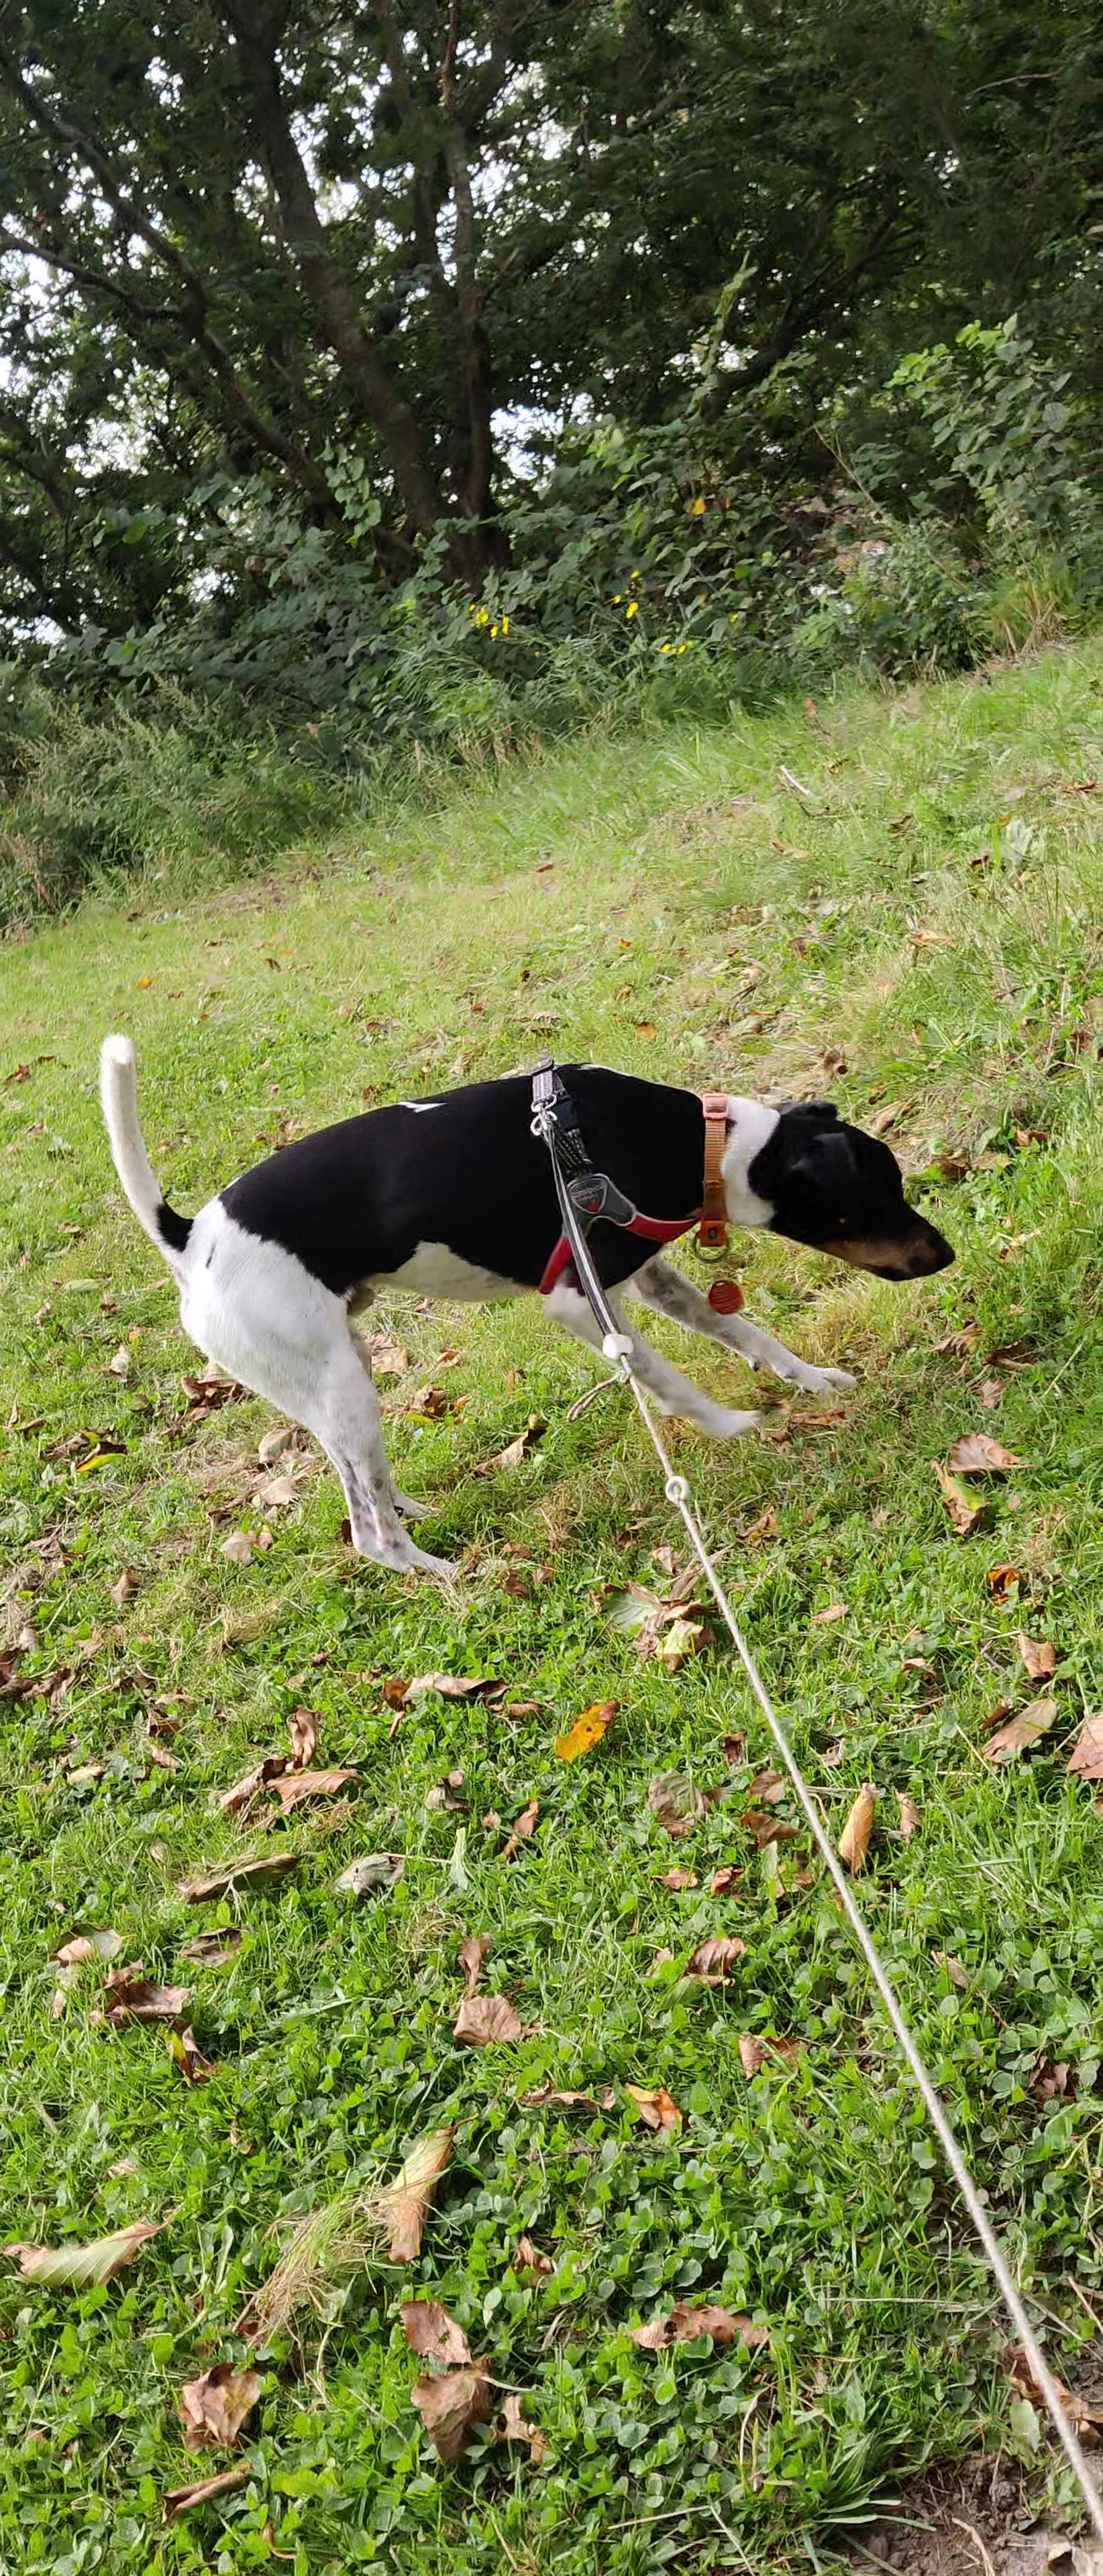Dog: (90, 1030, 960, 1603)
